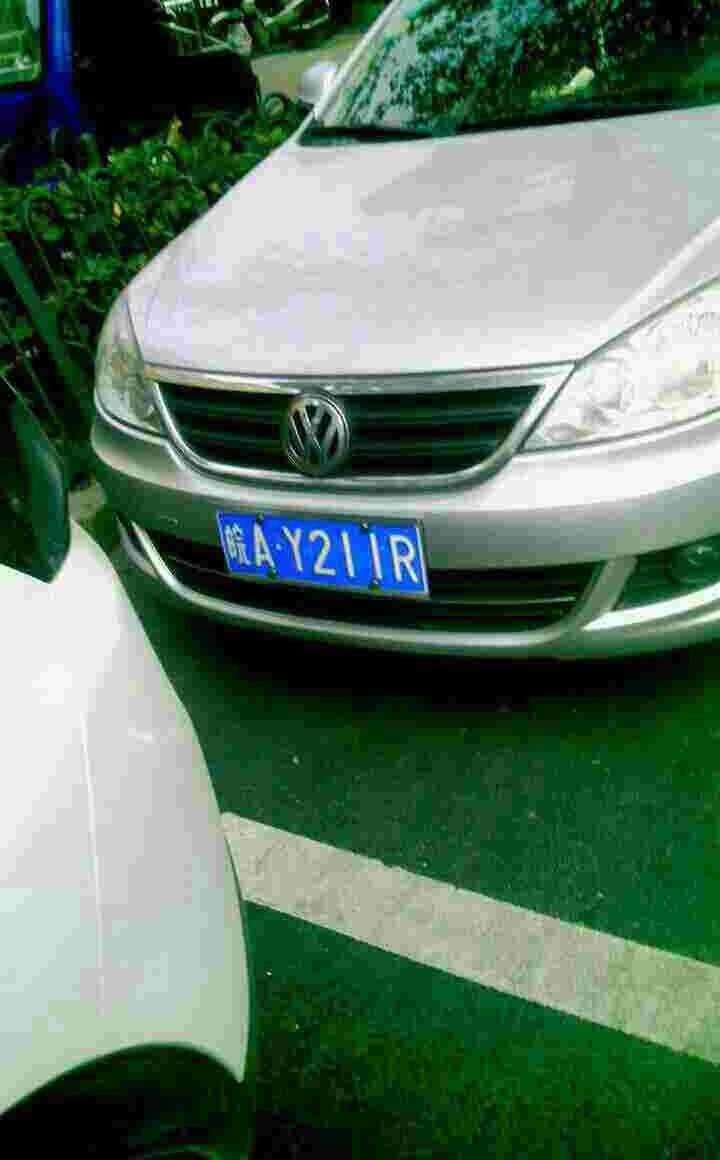plate: (210, 503, 433, 600)
